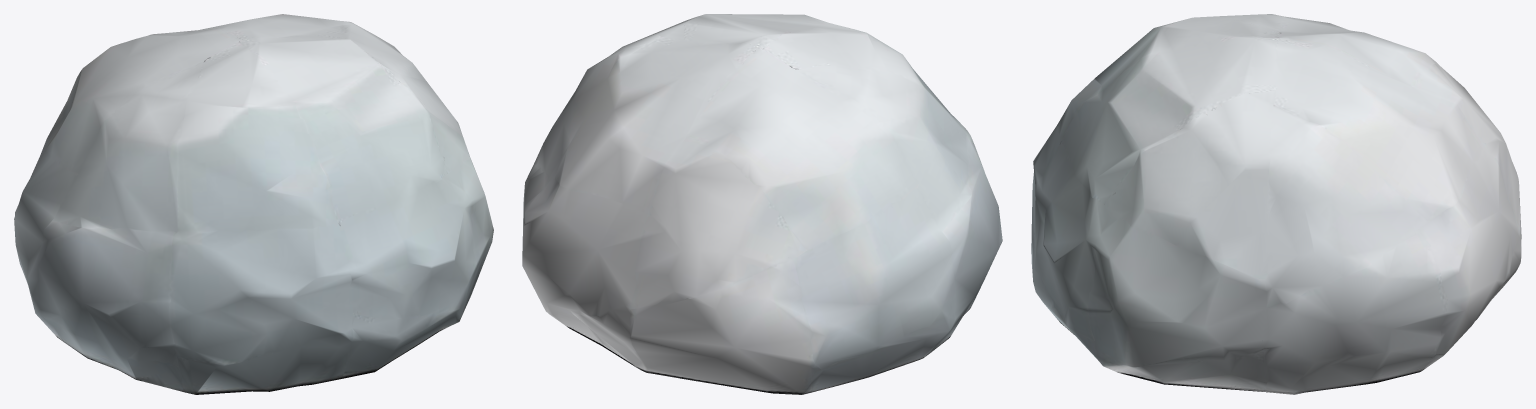
Rendered from rocher.glb.
The picture shows the model from 3 angles, left to right: view 1: azimuth 30°, elevation 25°; view 2: azimuth 150°, elevation 25°; view 3: azimuth 270°, elevation 25°; orthographic projection. The views are drawn at different scales.
Visible parts, largest first — view 1: mesh_node; view 2: mesh_node; view 3: mesh_node.
Boxes of the visible parts, bbox=[...] form: mesh_node: bbox=[14, 14, 493, 394]; mesh_node: bbox=[522, 14, 1002, 394]; mesh_node: bbox=[1031, 14, 1521, 394].
Bounding box in the file's own units: 1.88 × 1.18 × 1.9.
Materials: 1 (1 with a texture image).
